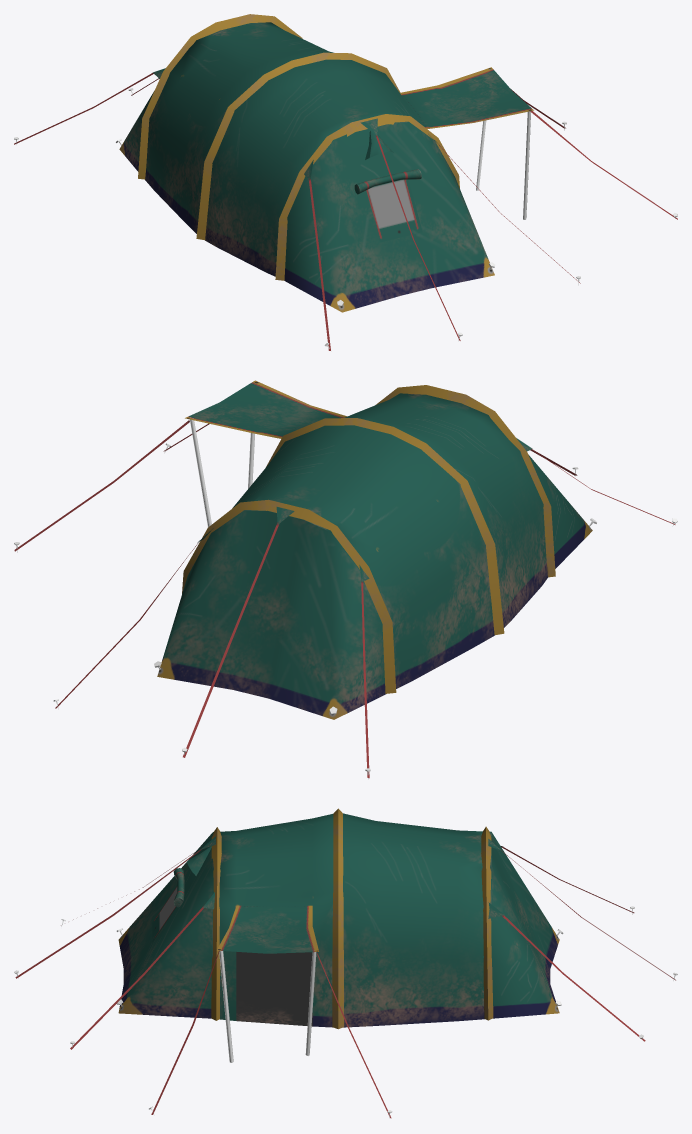
File: tenda.fbx
The picture shows the model from 3 angles, top to bottom: view 1: azimuth 30°, elevation 25°; view 2: azimuth 150°, elevation 25°; view 3: azimuth 270°, elevation 25°; orthographic projection. The views are drawn at different scales.
Visible parts, largest first — view 1: polySurface10; view 2: polySurface10; view 3: polySurface10.
Boxes of the visible parts, x1=… form: polySurface10: x1=14, y1=14, x2=677, y2=350; polySurface10: x1=14, y1=380, x2=677, y2=778; polySurface10: x1=14, y1=808, x2=677, y2=1118.
Size of the model in its own units: 3.66 by 1.34 by 4.94.
Materials: 1 (1 with a texture image).
